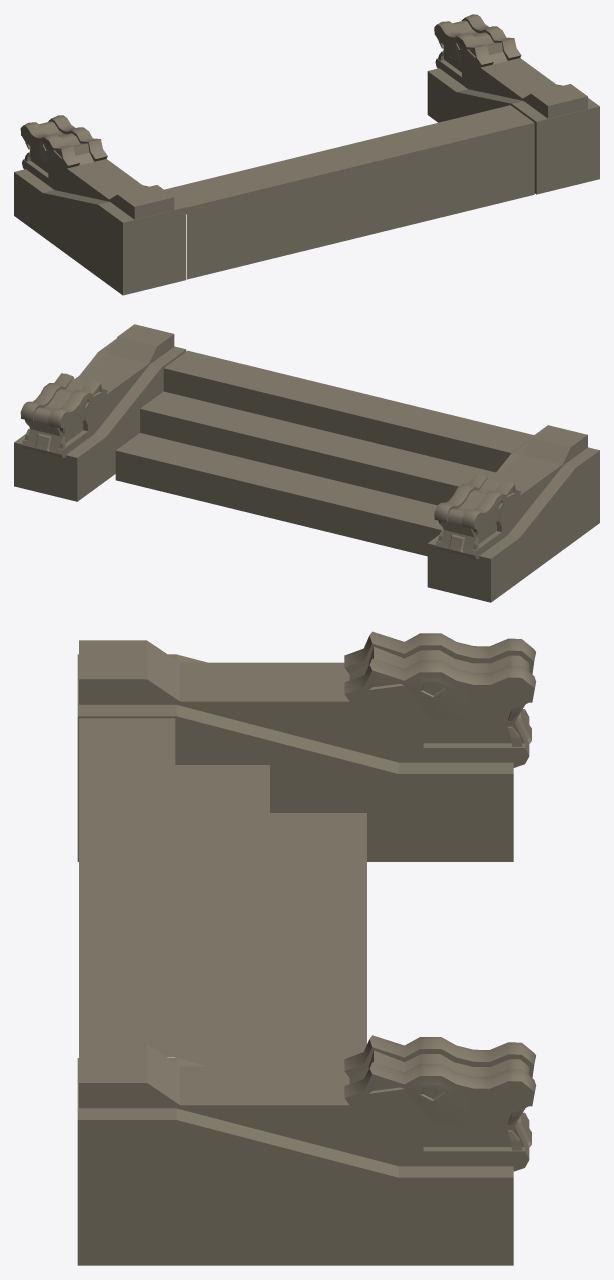
The model's file is TempleStair_A.fbx.
3 renders of one model, top to bottom at view 1: azimuth 30°, elevation 25°; view 2: azimuth 150°, elevation 25°; view 3: azimuth 270°, elevation 25°, orthographic. The views are drawn at different scales.
Visible parts, largest first — view 1: TempleStair_A01, TempleStair_A02; view 2: TempleStair_A02, TempleStair_A01; view 3: TempleStair_A01, TempleStair_A02.
Boxes of the visible parts, x1=… form: TempleStair_A01: x1=14, y1=14, x2=599, y2=295; TempleStair_A02: x1=164, y1=105, x2=534, y2=279; TempleStair_A02: x1=115, y1=350, x2=533, y2=556; TempleStair_A01: x1=14, y1=324, x2=599, y2=602; TempleStair_A01: x1=77, y1=631, x2=536, y2=1265; TempleStair_A02: x1=79, y1=718, x2=366, y2=1066.
Bounding box in the file's own units: 686 × 131 × 286.
